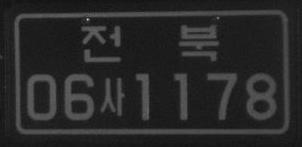0: (25, 72, 57, 121)
1: (130, 71, 156, 121), (168, 72, 194, 121)
6: (62, 73, 95, 122)
7: (206, 71, 238, 121)
8: (245, 71, 278, 121)
사: (99, 77, 125, 118)
전북_D: (81, 23, 220, 63)
